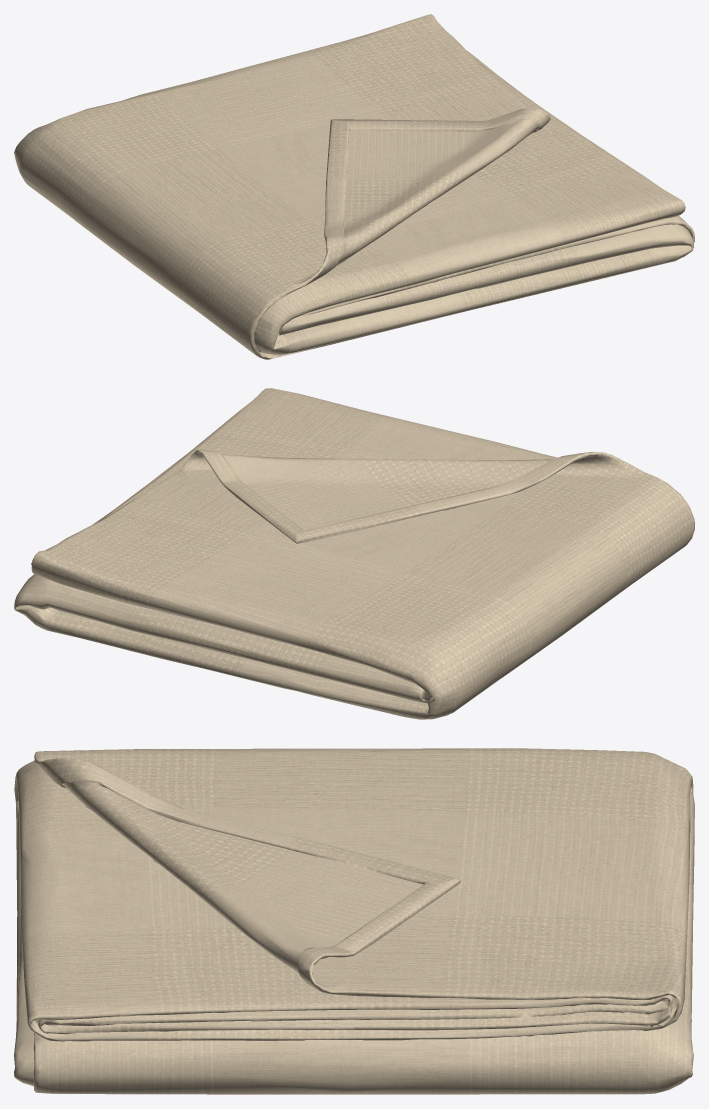
The model's file is indira_narzuta_10581055.glb.
3 renders of one model, top to bottom at view 1: azimuth 30°, elevation 25°; view 2: azimuth 150°, elevation 25°; view 3: azimuth 270°, elevation 25°, orthographic. The views are drawn at different scales.
Visible parts, largest first — view 1: indira_narzuta_10581055; view 2: indira_narzuta_10581055; view 3: indira_narzuta_10581055.
Boxes of the visible parts, x1,y1,x2,y2 form: indira_narzuta_10581055: (14, 14, 694, 359); indira_narzuta_10581055: (14, 388, 694, 719); indira_narzuta_10581055: (14, 748, 694, 1094).
Bounding box in the file's own units: 0.525 × 0.1 × 0.5227.
Materials: 1 (1 with a texture image).
